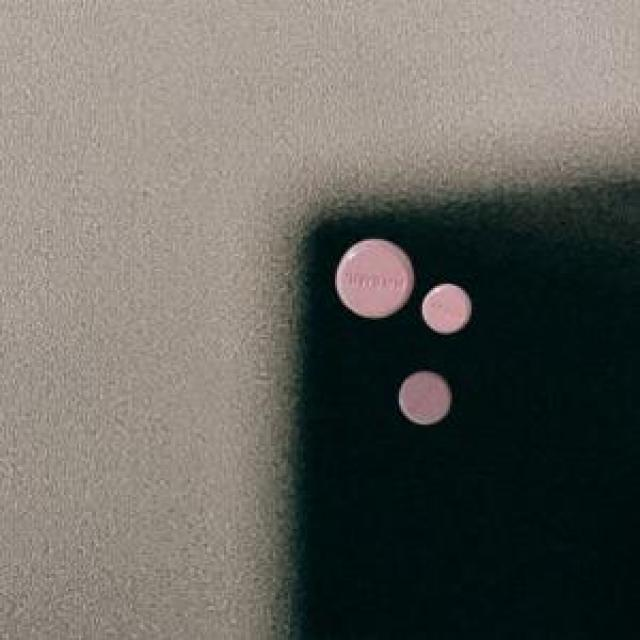Kremil_S: (325, 227, 416, 325), (392, 363, 455, 432), (420, 278, 473, 345)
